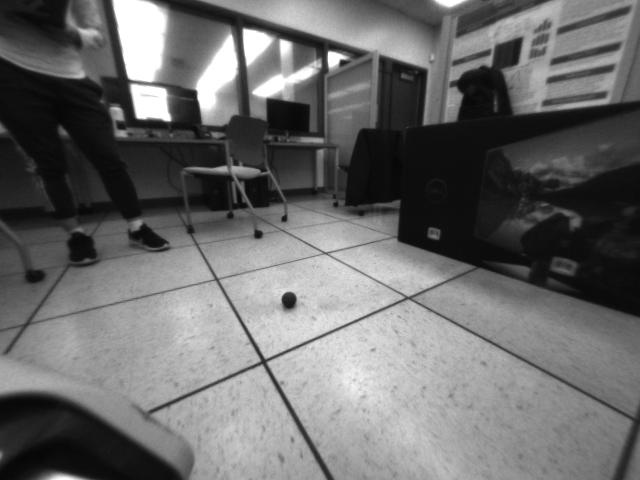dogtoy: (273, 282, 304, 313)
